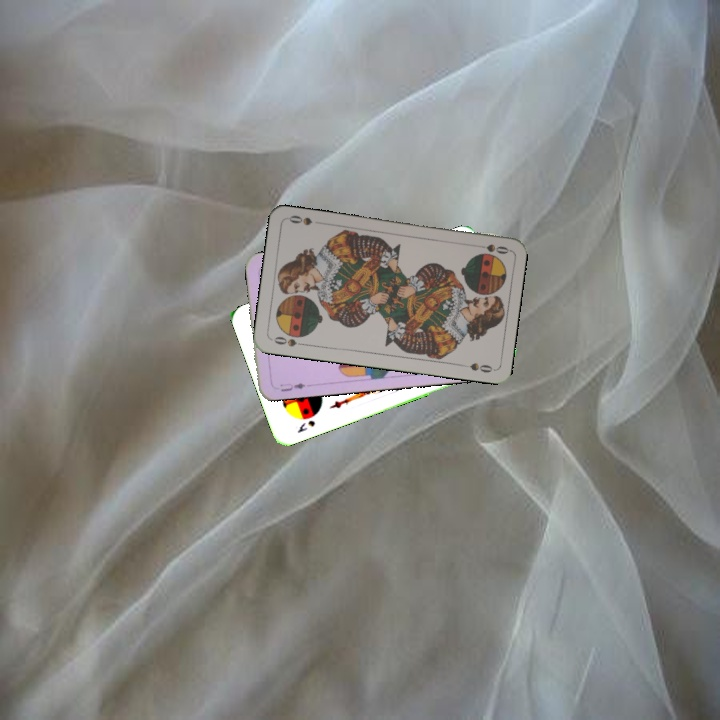EU: (276, 379, 308, 394)
SK: (293, 416, 318, 436)
SO: (470, 240, 511, 257), (268, 333, 308, 349)
